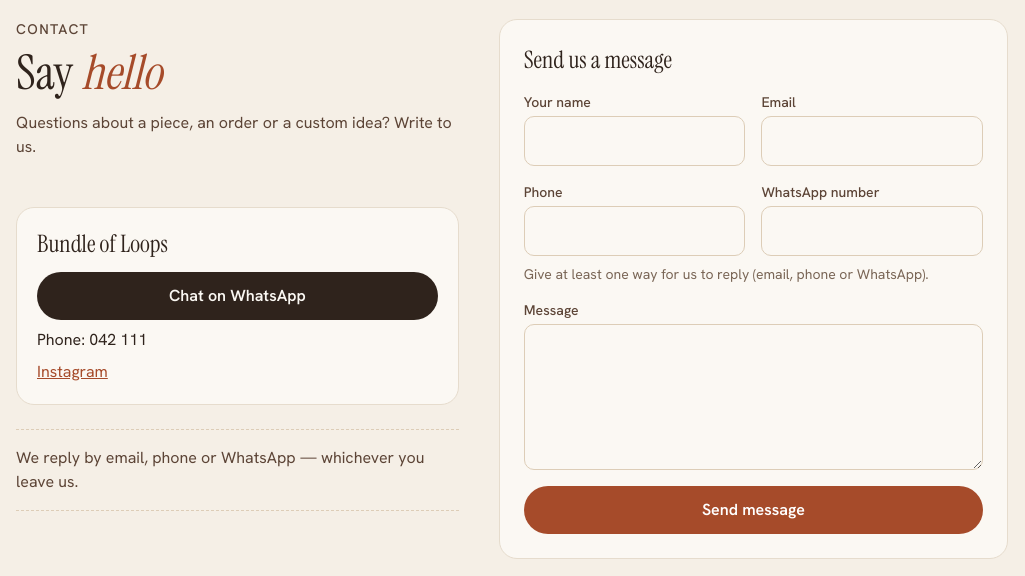
Test case: sends a message and thanks the customer
Type "Sara" into the field labelled "Your name" at (635, 141), box [524,116,745,166]
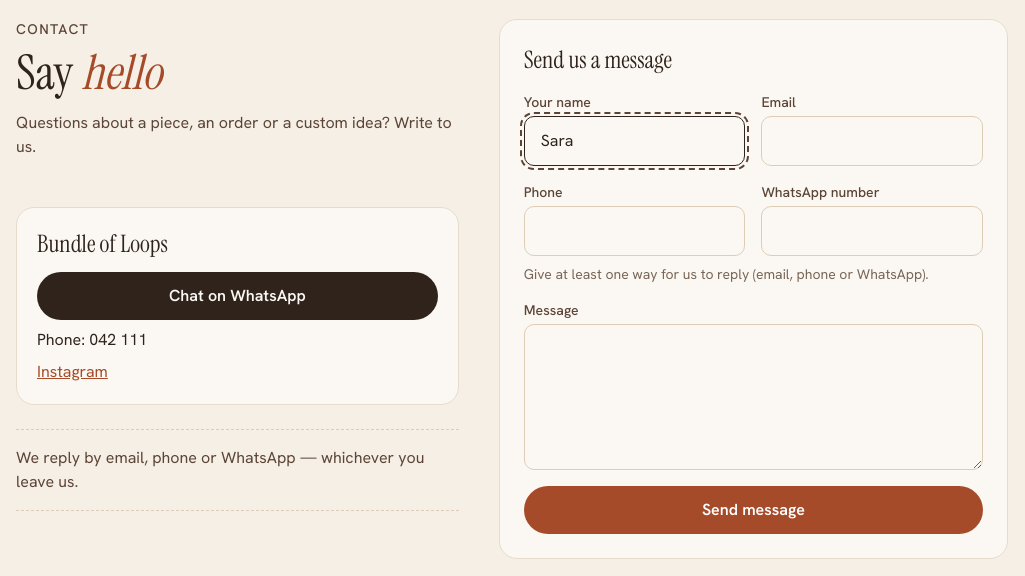
Type "sara@example.com" into the field labelled "Email" at (872, 141), box [761,116,983,166]
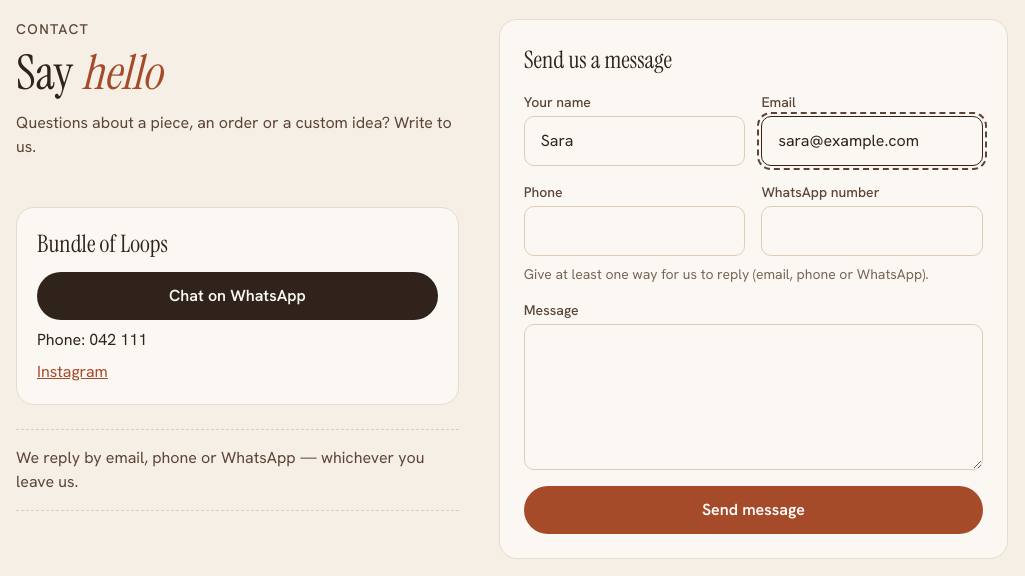
Type "Do you ship to Islamabad?" into the text box labelled "Message" at (753, 397), box [524,324,983,470]
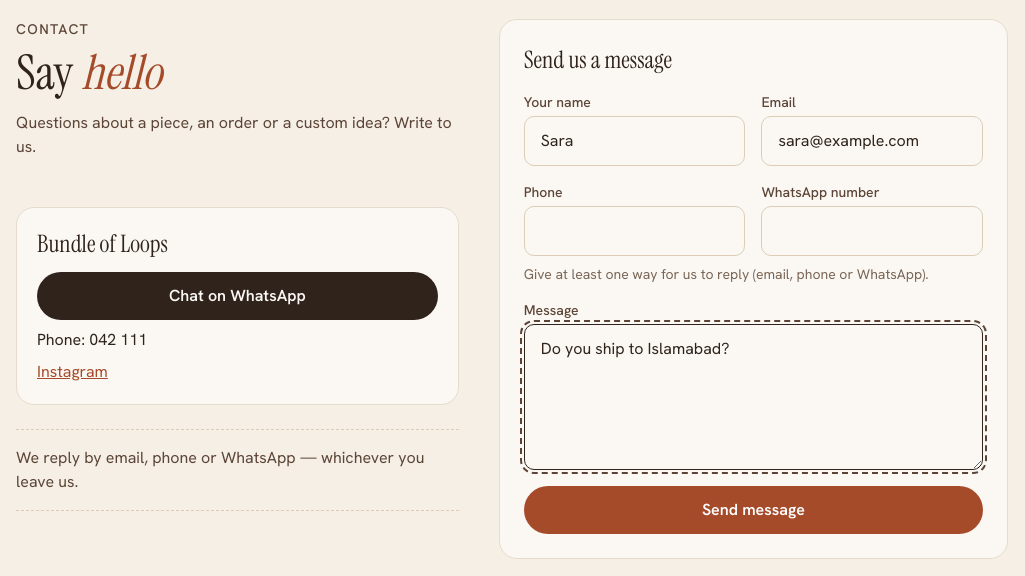
Click the button "Send message" at (753, 510), box [524,486,983,534]
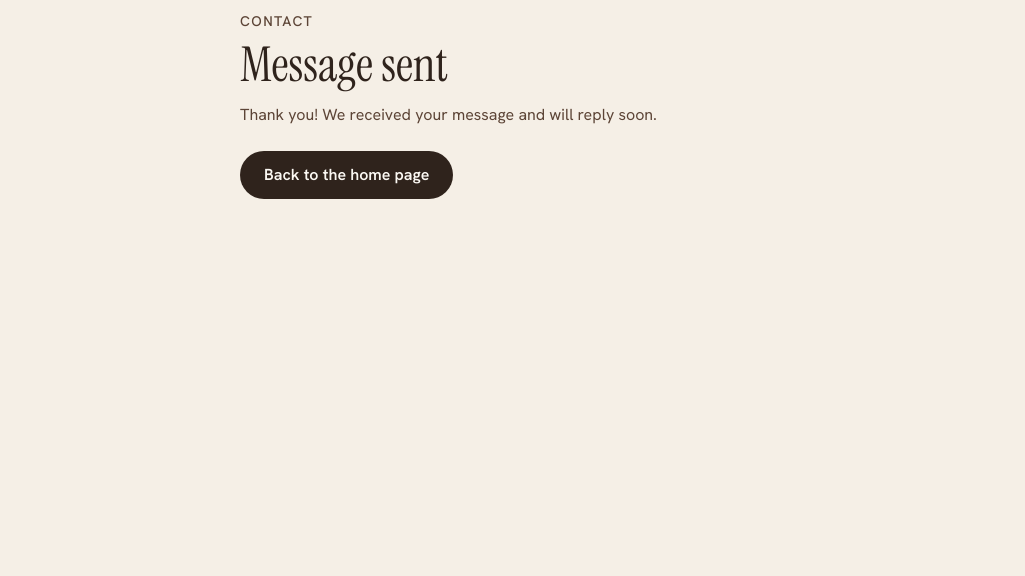
Expected: the text "Thank you! We received your message and will reply soon." is shown, [240,104,657,125]
